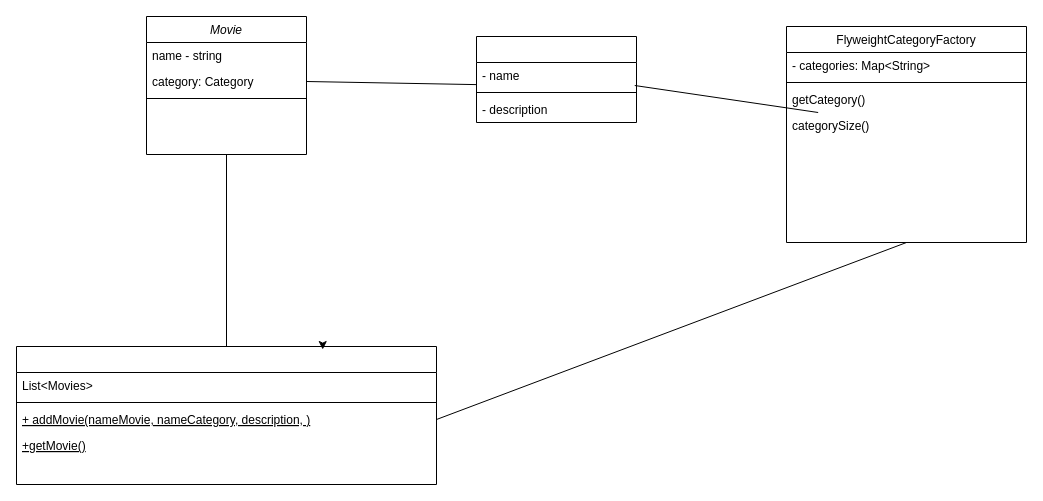
Image size: 1043x501. Some labels were removed from this diagram. Each missing label, with the box of its shape:
Catalog: (16, 346, 436, 484)
Category: (476, 36, 636, 122)
